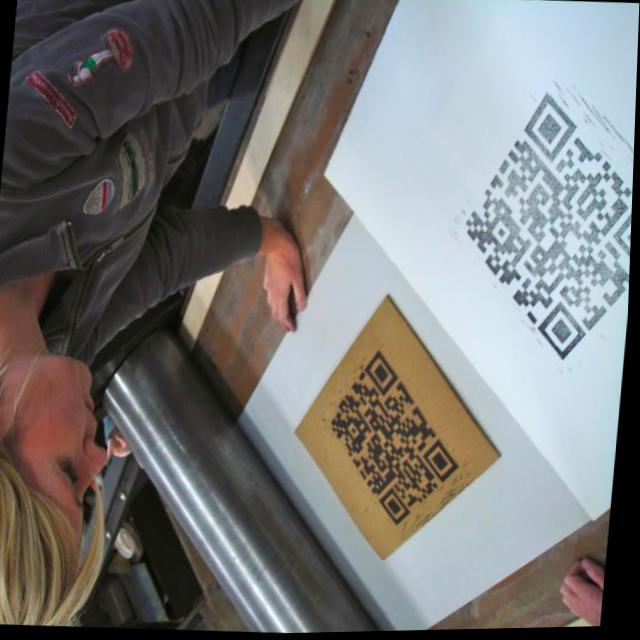qrcode: (451, 90, 638, 369), (321, 349, 473, 533)
